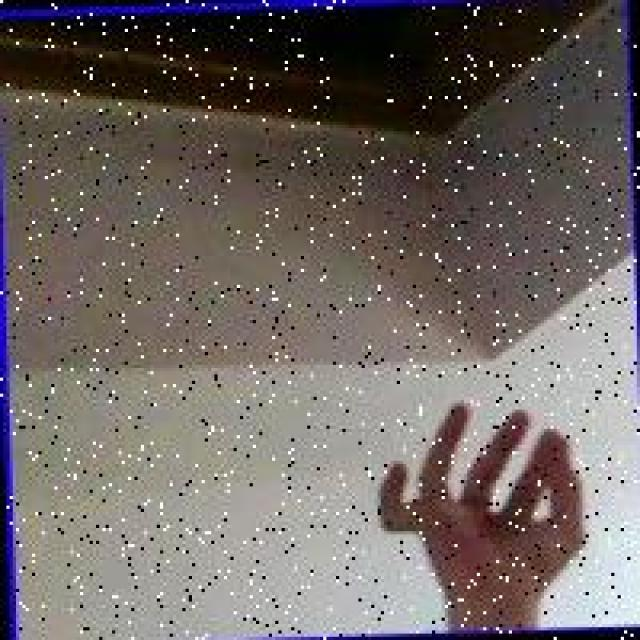F: (374, 397, 605, 624)
